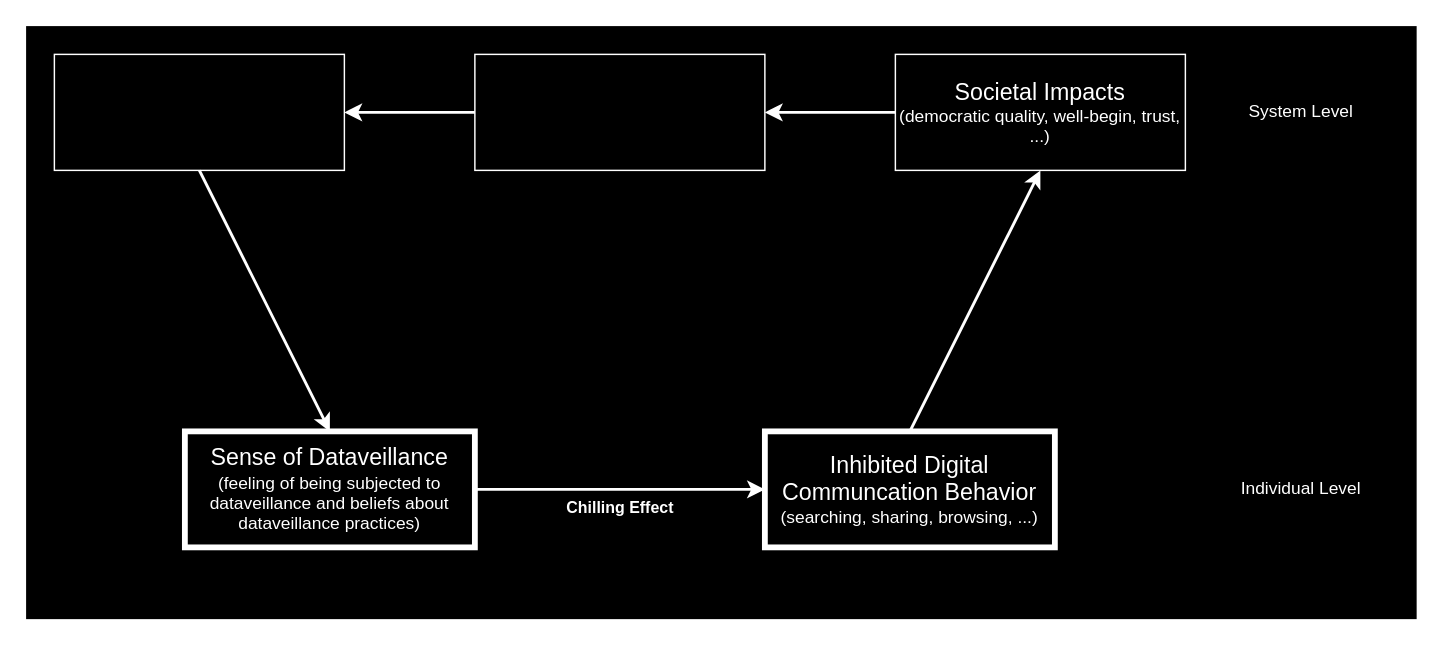
Image size: 1443x645. Some labels were removed from this diagram. Here are the shapes that lost their labels. From the top down, the centre of each, then its label:
the point at 198,111: Dataveillence Practices (state and corporate surveillance of digital traces)
the point at 619,111: Governance (steering by state, industry, markets, and users)
